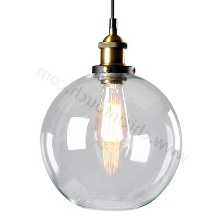light_bulb: (34, 64, 184, 212)
